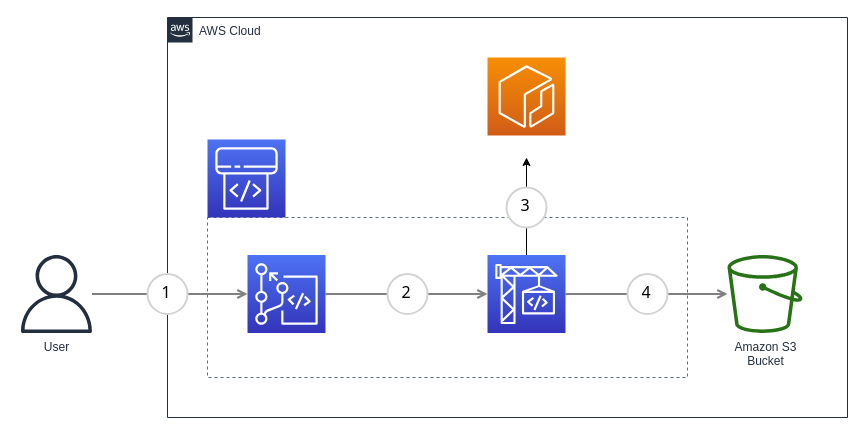
Some shapes in this 865 by 435 pixel diagram are drawn without their labels. The shapes that lost their labels are listed below. From the top down, each one's centre as x and y in pixels, then its label:
(526,96): ECR
(246,178): AWS CodePipeline
(286,293): AWS CodeCommit
(526,293): AWS CodeBuild
